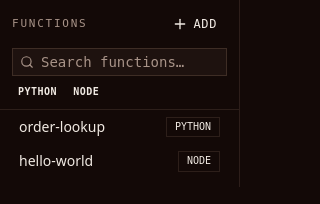
shows every language again when the solo'd chip is clicked again
This screenshot has width=320, height=204.
Click the button "python": (38, 92) [12, 82, 63, 101]
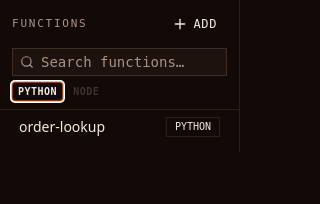
Click the button "python": (38, 92) [12, 82, 63, 101]
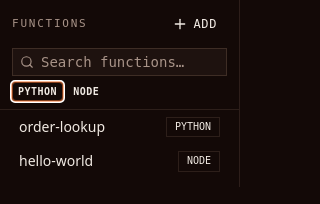
Expected: the text "order-lookup" is shown, [19, 117, 105, 137]
Expected: the text "hello-world" is shown, [19, 151, 93, 171]
